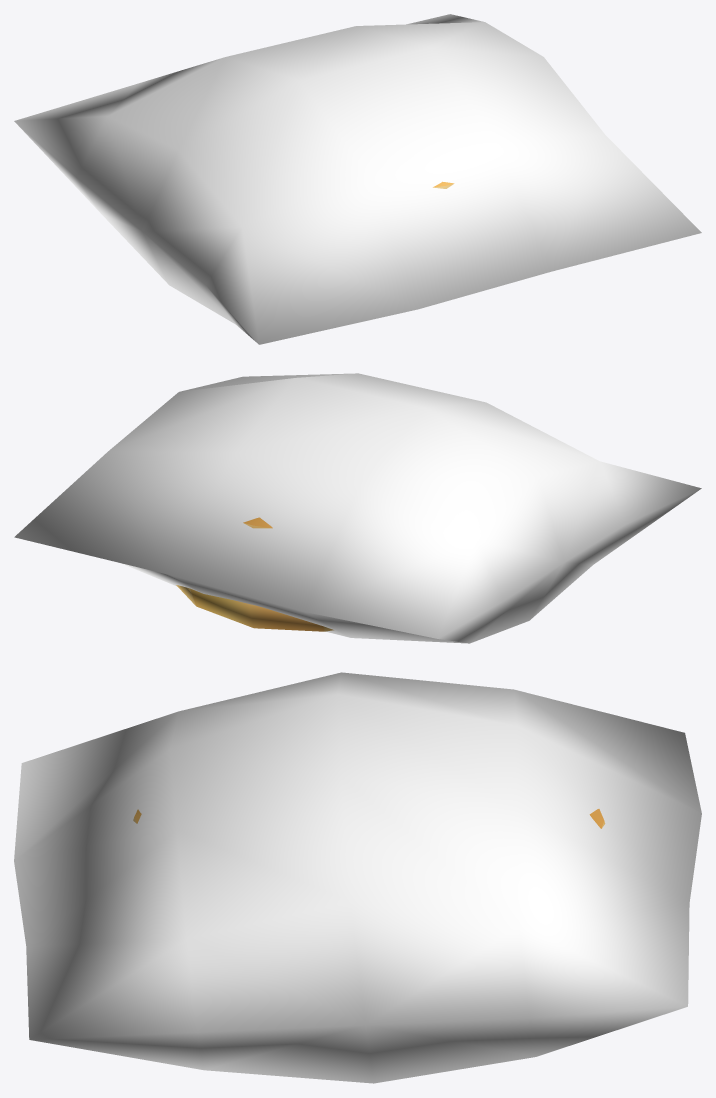
The model's file is SM_bread_dorayaki.fbx.
3 renders of one model, top to bottom at view 1: azimuth 30°, elevation 25°; view 2: azimuth 150°, elevation 25°; view 3: azimuth 270°, elevation 25°, orthographic. The views are drawn at different scales.
Parts seen in each view (by area): view 1: Object32435; view 2: Object32435; view 3: Object32435.
Boxes of the visible parts, left/top/right/bottom form: Object32435: left=14, top=14, right=701, bottom=344; Object32435: left=14, top=373, right=701, bottom=643; Object32435: left=14, top=672, right=701, bottom=1083.
Bounding box in the file's own units: 21.41 × 9.48 × 21.87.
